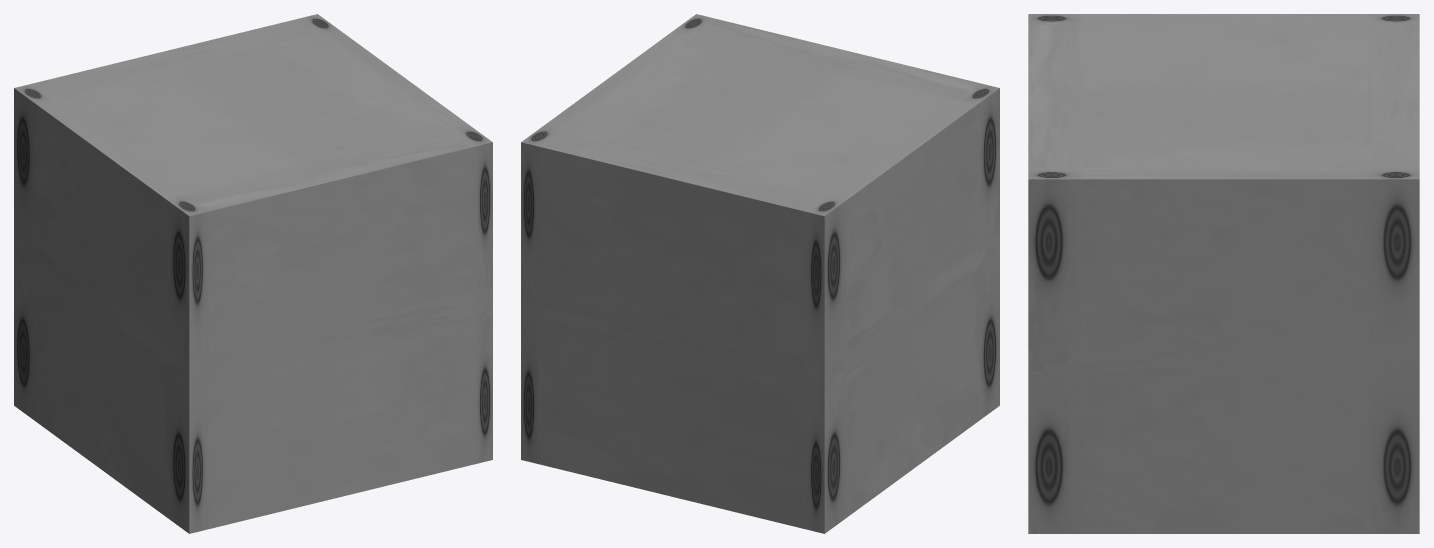
File: ScalableMesh_Ground.fbx
3 views of the same model, side by side, from view 1: azimuth 30°, elevation 25°; view 2: azimuth 150°, elevation 25°; view 3: azimuth 270°, elevation 25° (orthographic). The views are drawn at different scales.
Parts seen in each view (by area): view 1: MAT_ScalableMesh_01; view 2: MAT_ScalableMesh_01; view 3: MAT_ScalableMesh_01.
Boxes of the visible parts, x1,y1,x2,y2 form: MAT_ScalableMesh_01: (14, 14, 492, 533); MAT_ScalableMesh_01: (521, 14, 999, 533); MAT_ScalableMesh_01: (1028, 14, 1419, 533).
Bounding box in the file's own units: 1 × 1 × 1.
1 material, 1 textured.
